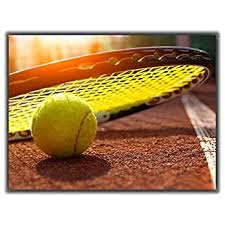tennis_ball: (30, 93, 98, 159)
